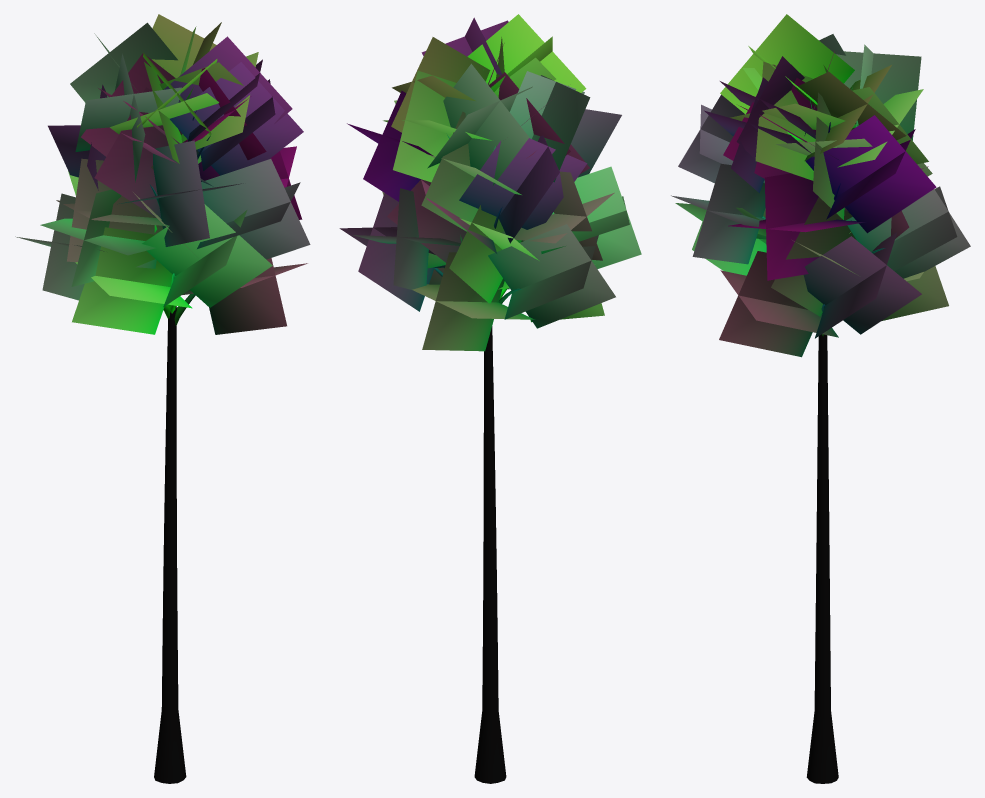
The model's file is M_P5_Tree_4.fbx.
The picture shows the model from 3 angles, left to right: view 1: azimuth 30°, elevation 25°; view 2: azimuth 150°, elevation 25°; view 3: azimuth 270°, elevation 25°; orthographic projection.
Parts seen in each view (by area): view 1: Tree_4; view 2: Tree_4; view 3: Tree_4.
Part boxes in pixels (x1,y1,x2,y2): Tree_4: (15, 14, 310, 783); Tree_4: (339, 14, 641, 783); Tree_4: (671, 14, 970, 783).
Size of the model in its own units: 252 by 689 by 253.
